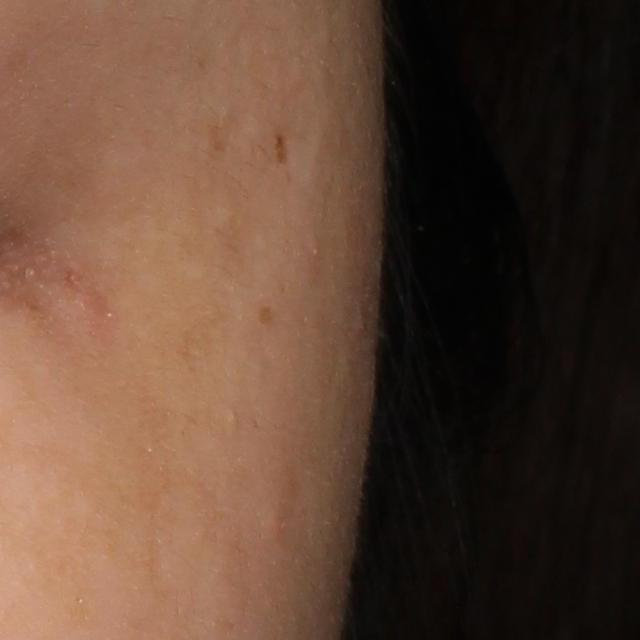nevus: (275, 129, 287, 162)
